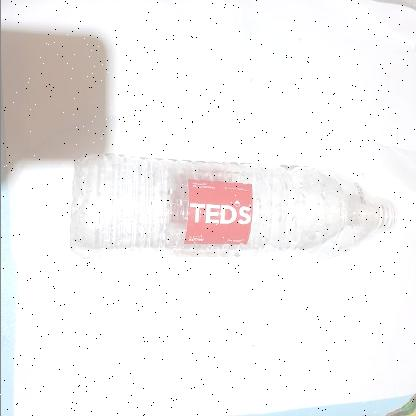Plastic Bottle: (70, 152, 396, 262)
